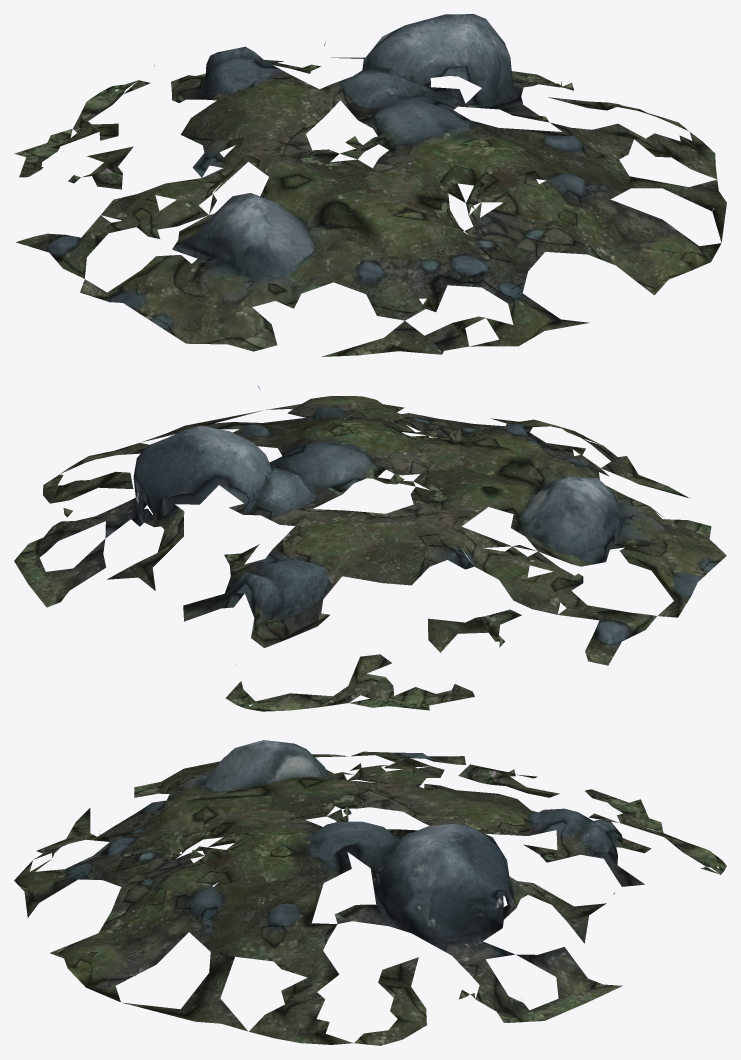
The model's file is hill-1.glb.
3 renders of one model, top to bottom at view 1: azimuth 30°, elevation 25°; view 2: azimuth 150°, elevation 25°; view 3: azimuth 270°, elevation 25°, orthographic. The views are drawn at different scales.
Visible parts, largest first — view 1: geometry_0; view 2: geometry_0; view 3: geometry_0.
Boxes of the visible parts, left/top/right/bottom form: geometry_0: left=14, top=14, right=726, bottom=356; geometry_0: left=14, top=385, right=726, bottom=711; geometry_0: left=14, top=740, right=726, bottom=1045.
Size of the model in its own units: 0.9142 by 0.1794 by 0.9431.
1 material, 1 textured.
